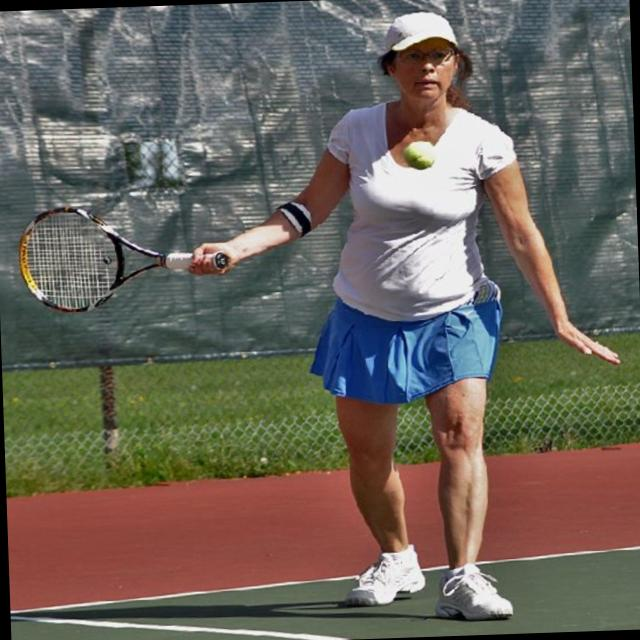Tennis Ball: (404, 140, 435, 170)
